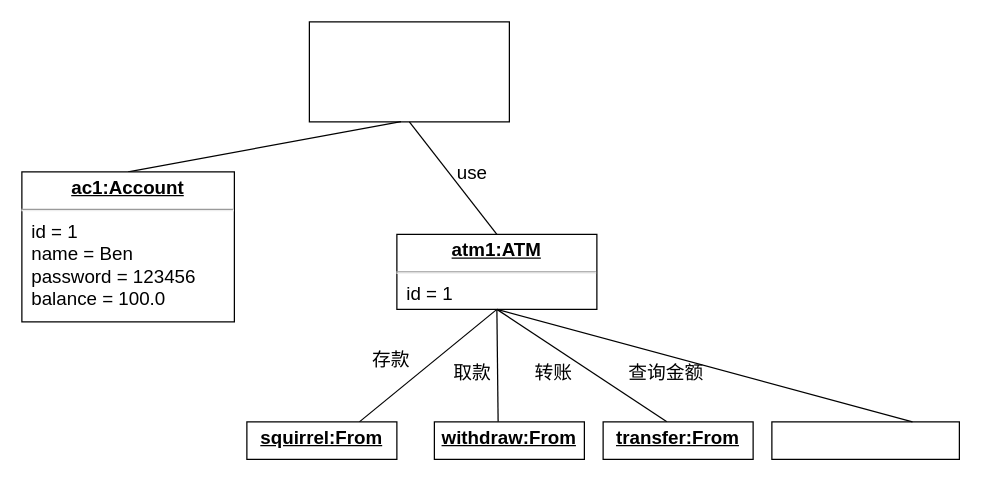
Image size: 981x481. Some labels were removed from this diagram. Here are the shapes that lost their labels. From the top down, the centre of each, then its label:
the point at 408,71: me:customer name = Ben Tel = 15360000000
the point at 865,440: get_balance:From
